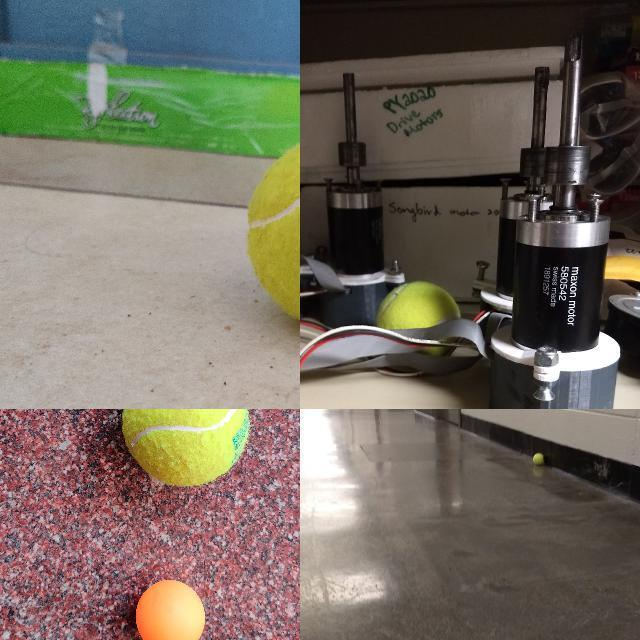tennis-ball: (246, 129, 299, 332), (122, 409, 249, 486), (376, 281, 460, 318), (533, 452, 544, 465)
